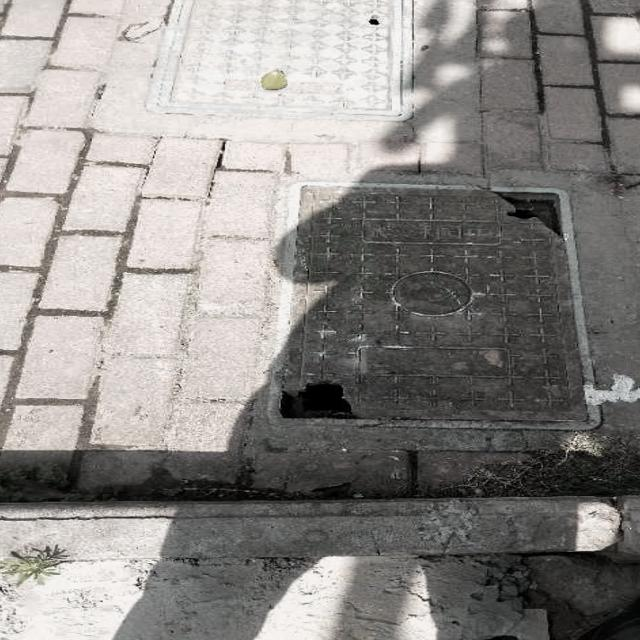broke: (276, 183, 573, 428)
